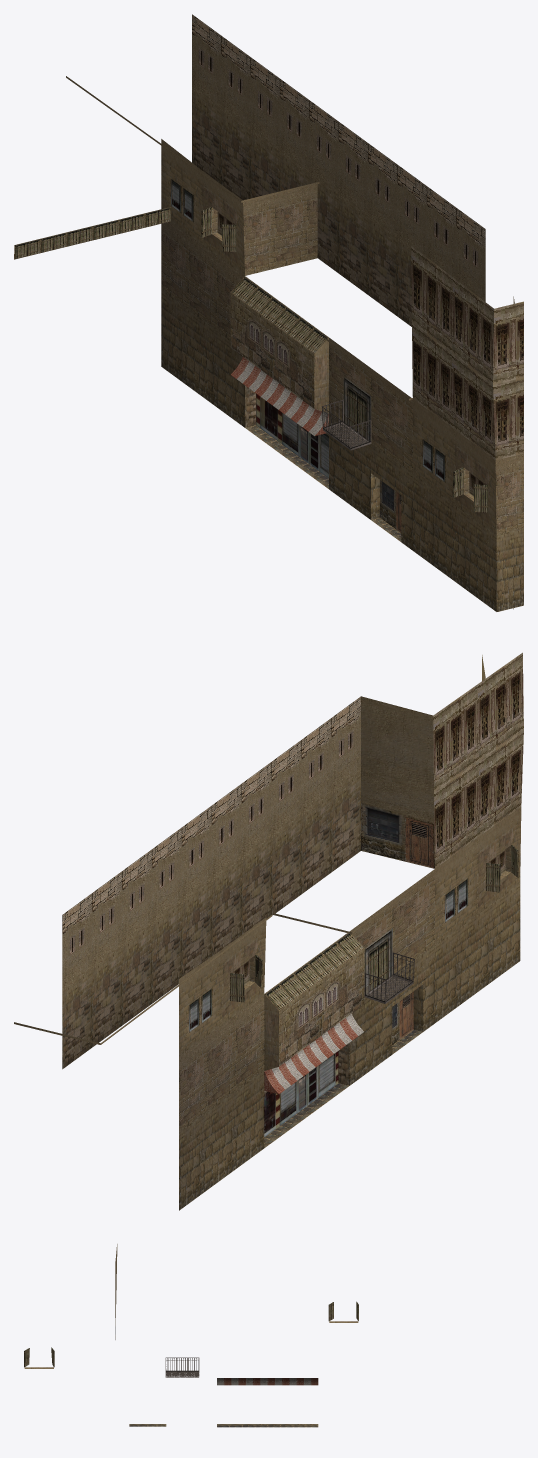
Rendered from M7Z1_CityWall4.glb.
3 renders of one model, top to bottom at view 1: azimuth 30°, elevation 25°; view 2: azimuth 150°, elevation 25°; view 3: azimuth 270°, elevation 25°, orthographic. The views are drawn at different scales.
Parts seen in each view (by area): view 1: M7Z1_CITYWALL4; view 2: M7Z1_CITYWALL4; view 3: M7Z1_CITYWALL4.
Boxes of the visible parts, <box> form: M7Z1_CITYWALL4: <box>14,14,523,611</box>; M7Z1_CITYWALL4: <box>14,652,523,1210</box>; M7Z1_CITYWALL4: <box>24,1244,358,1427</box>.
Size of the model in its own units: 12.82 by 17 by 40.2.
17 materials, 17 textured.
